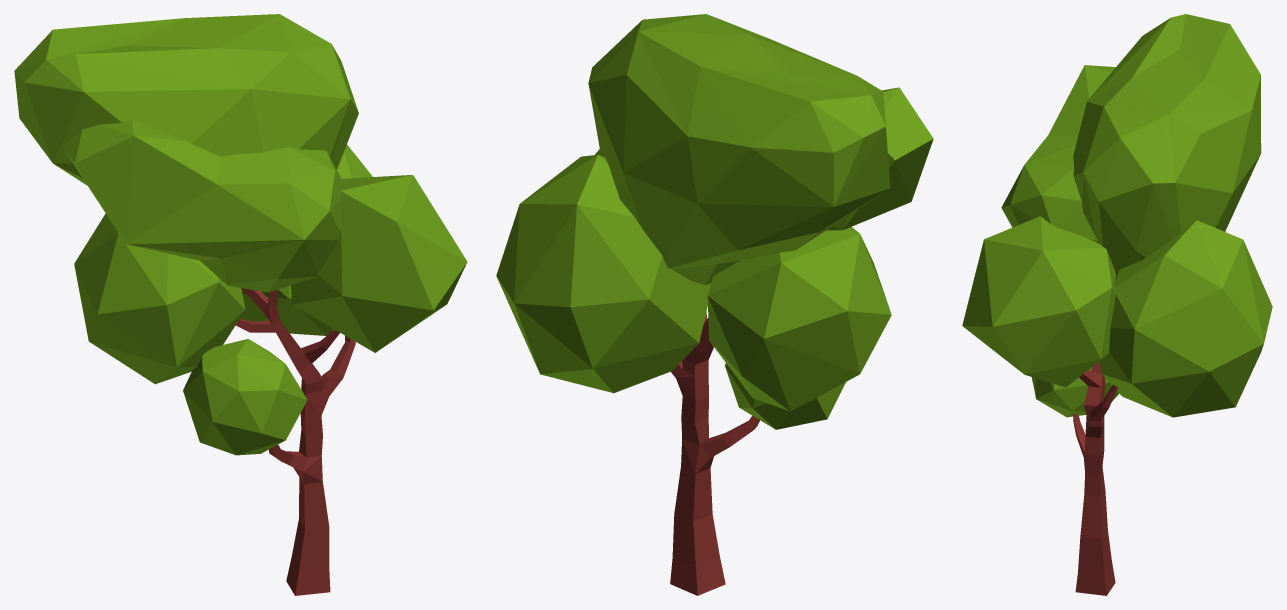
Rendered from Windswept_Tree_flat.glb.
3 renders of one model, left to right at view 1: azimuth 30°, elevation 25°; view 2: azimuth 150°, elevation 25°; view 3: azimuth 270°, elevation 25°, orthographic. The views are drawn at different scales.
Visible parts, largest first — view 1: Windswept green f; view 2: Windswept green f; view 3: Windswept green f.
Part boxes in pixels (x1,y1,x2,y2): Windswept green f: (14, 14, 467, 595); Windswept green f: (496, 14, 933, 595); Windswept green f: (962, 14, 1272, 595).
Bounding box in the file's own units: 10.33 × 15.38 × 8.88.
